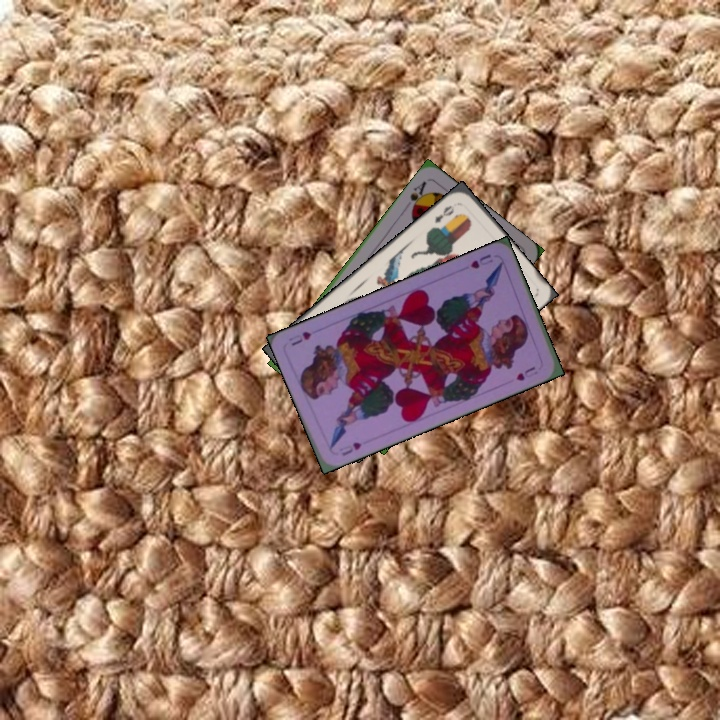EO: (430, 201, 457, 226)
HU: (466, 250, 496, 271), (335, 438, 364, 459)
SA: (406, 177, 429, 215)
